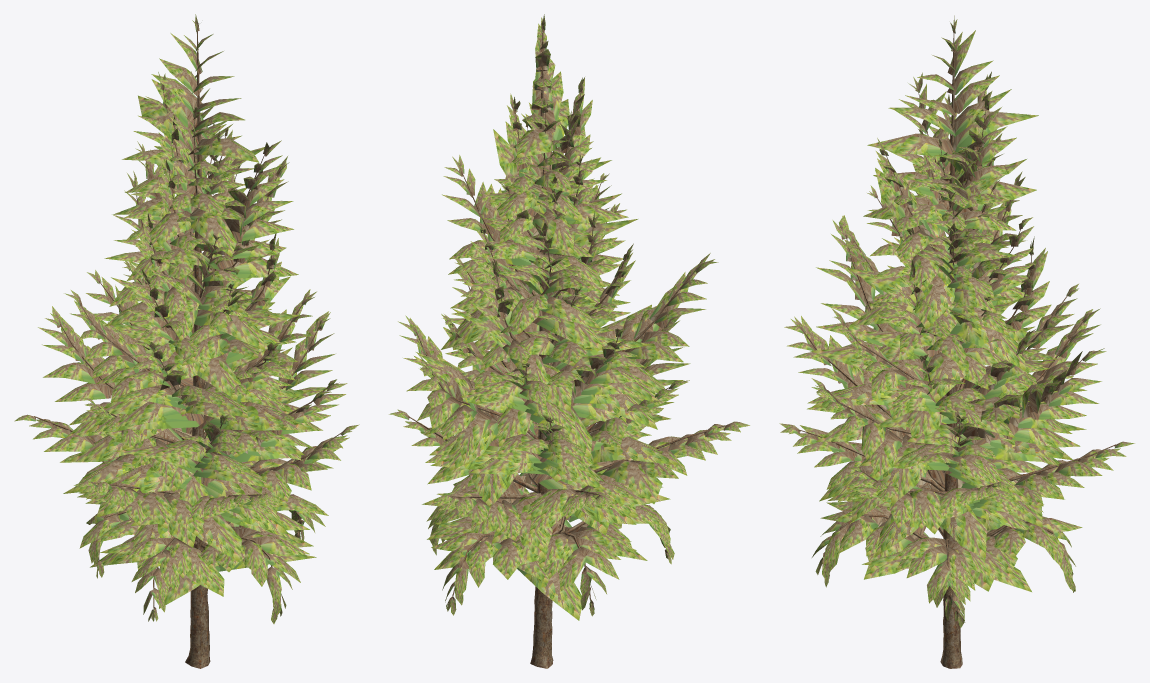
File: Pine02.fbx
3 views of the same model, side by side, from view 1: azimuth 30°, elevation 25°; view 2: azimuth 150°, elevation 25°; view 3: azimuth 270°, elevation 25° (orthographic).
Parts seen in each view (by area): view 1: Pine02_LOD0; view 2: Pine02_LOD0; view 3: Pine02_LOD0.
Boxes of the visible parts, <box> form: Pine02_LOD0: <box>14,14,359,668</box>; Pine02_LOD0: <box>389,14,749,668</box>; Pine02_LOD0: <box>779,15,1134,668</box>.
Size of what is drawn, in the model's own units: 706 by 1446 by 719.
2 materials, 2 textured.
